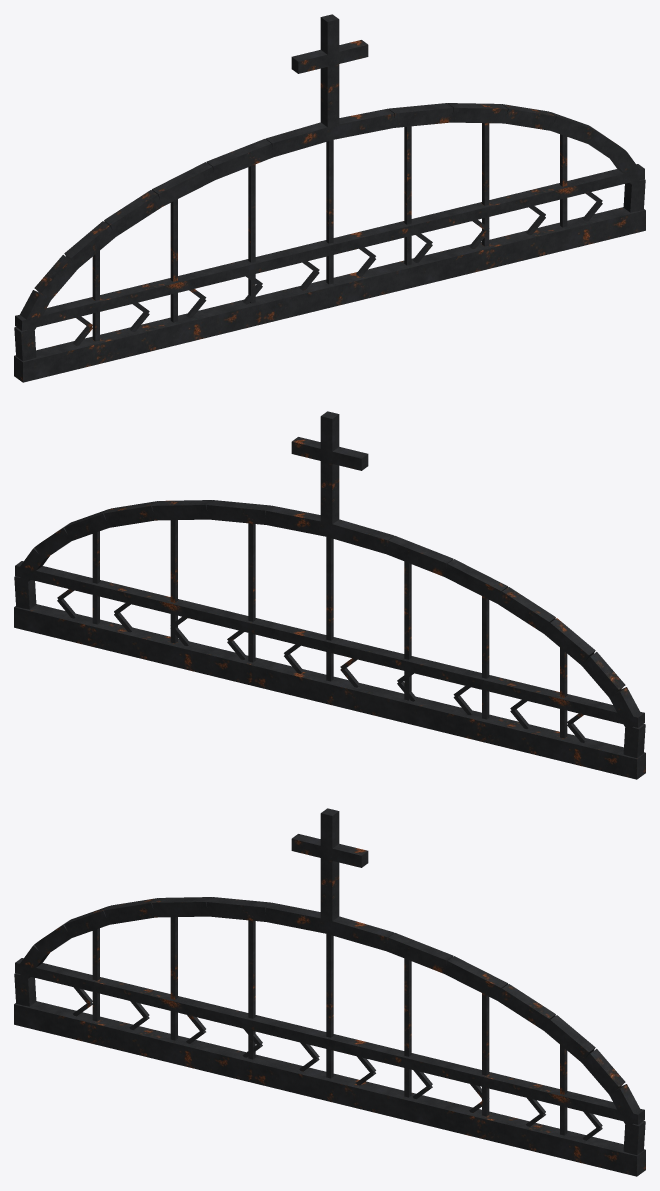
The model's file is porton_marco.obj.
3 renders of one model, top to bottom at view 1: azimuth 30°, elevation 25°; view 2: azimuth 150°, elevation 25°; view 3: azimuth 330°, elevation 25°, orthographic.
Visible parts, largest first — view 1: porton_marco; view 2: porton_marco; view 3: porton_marco.
Part boxes in pixels (left/top/right/bottom): porton_marco: left=14, top=14, right=645, bottom=382; porton_marco: left=14, top=411, right=645, bottom=779; porton_marco: left=14, top=808, right=645, bottom=1176.
Bounding box in the file's own units: 3.21 × 1.4 × 0.08.
